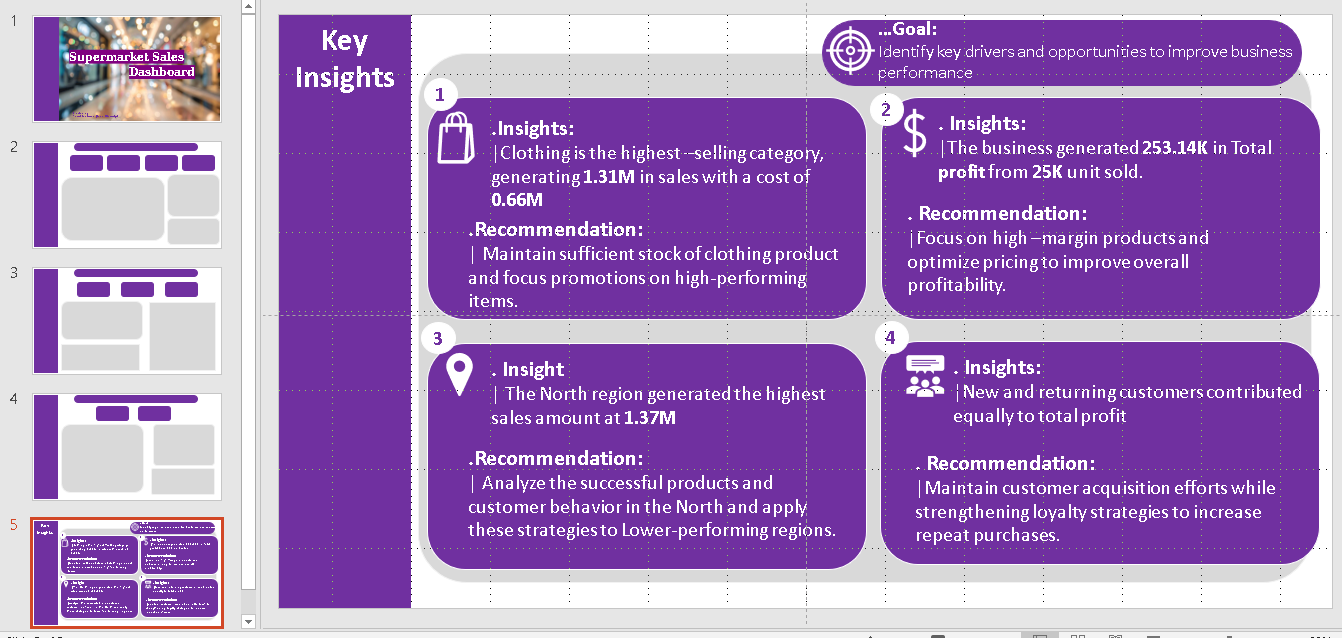

Layout of this report page (visuals, bound fields, positions):
{"tool":"powerbi","page":{"name":"Key Insights","canvas":[1280,720],"ordinal":4},"visuals":[{"type":"actionButton","box":[17.5,296.2,117.5,37.5],"z":0},{"type":"actionButton","box":[17.5,341.2,116.9,38.1],"z":1000},{"type":"actionButton","box":[7.5,385,136.2,38.8],"z":2000},{"type":"actionButton","box":[0,431.2,155,38.8],"z":3000},{"type":"actionButton","box":[3.3,478.3,155,38.3],"z":4000}]}

Visuals, with their boxes on the page's 1280x720 design canvas (x1, y1, x2, y2). These are canvas units, not pixel positions in the 1342x638 screenshot, which may show the page scaled, cropped or inside an application window:
actionButton: bbox=[18, 296, 135, 334]
actionButton: bbox=[18, 341, 134, 379]
actionButton: bbox=[8, 385, 144, 424]
actionButton: bbox=[0, 431, 155, 470]
actionButton: bbox=[3, 478, 158, 517]
